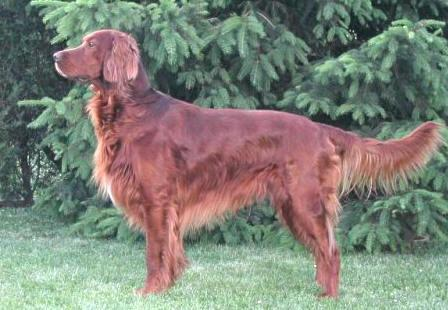Irish_setter: (52, 29, 438, 298)
